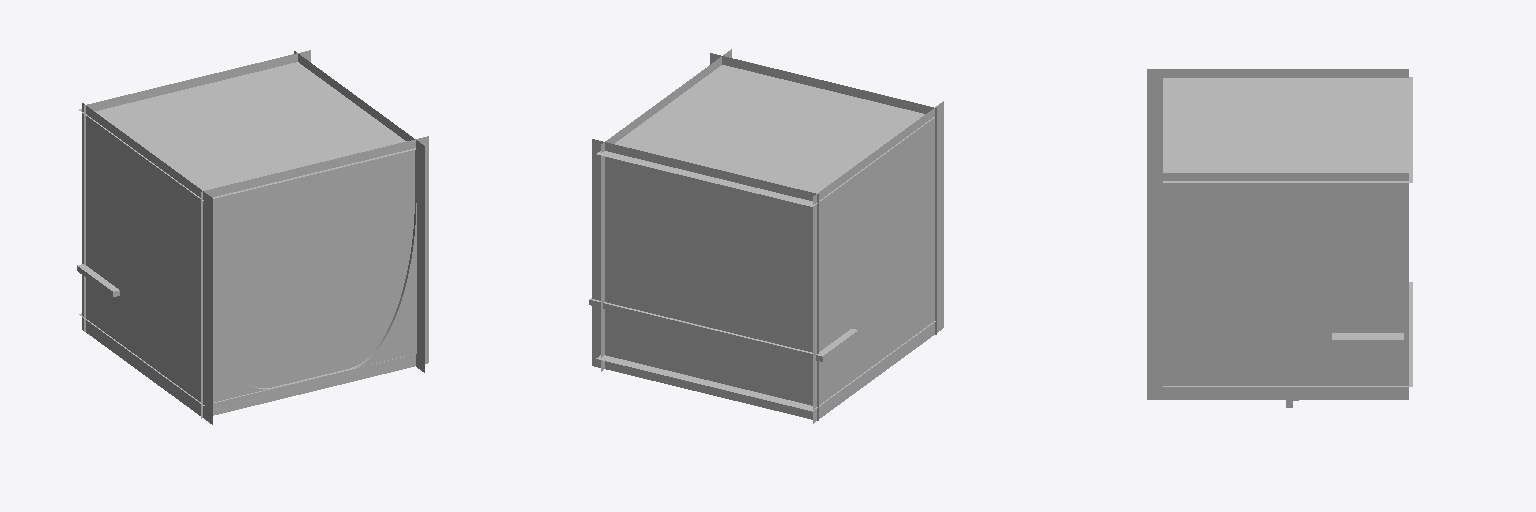
File: Throne_map_simple.003.obj
3 views of the same model, side by side, from view 1: azimuth 30°, elevation 25°; view 2: azimuth 150°, elevation 25°; view 3: azimuth 270°, elevation 25° (orthographic).
Visible parts, largest first — view 1: Wall_Front_Plane.002, Wall_Left_Plane.006, Floor_Roof_Plane.007, Wall_Right_Plane.005, Plane_Plane.001, Wall_Back_Plane.004, Plane.001_Plane.003; view 2: Wall_Back_Plane.004, Wall_Left_Plane.006, Floor_Roof_Plane.007, Wall_Front_Plane.002, Flor_Dias_Cube.002, Wall_Right_Plane.005, Floor_Ground_Plane; view 3: Wall_Right_Plane.005, Floor_Roof_Plane.007, Wall_Left_Plane.006, Flor_Dias_Cube.002, Floor_Ground_Plane.
Part boxes in pixels (x1,y1,x2,y2): Wall_Front_Plane.002: (201, 136, 428, 418); Wall_Left_Plane.006: (82, 103, 212, 424); Floor_Roof_Plane.007: (79, 62, 415, 200); Wall_Right_Plane.005: (294, 51, 424, 372); Plane_Plane.001: (350, 150, 416, 368); Wall_Back_Plane.004: (84, 50, 310, 331); Plane.001_Plane.003: (213, 320, 270, 402); Wall_Back_Plane.004: (592, 139, 818, 420); Wall_Left_Plane.006: (813, 101, 943, 423); Floor_Roof_Plane.007: (597, 65, 934, 206); Wall_Front_Plane.002: (710, 53, 936, 334); Flor_Dias_Cube.002: (589, 298, 858, 361); Wall_Right_Plane.005: (601, 49, 731, 371); Floor_Ground_Plane: (596, 321, 935, 411); Wall_Right_Plane.005: (1147, 173, 1408, 399); Floor_Roof_Plane.007: (1163, 77, 1412, 182); Wall_Left_Plane.006: (1147, 69, 1408, 172); Flor_Dias_Cube.002: (1332, 333, 1403, 344); Floor_Ground_Plane: (1163, 282, 1412, 386).
Bounding box in the file's own units: 13.74 × 15.01 × 13.58.